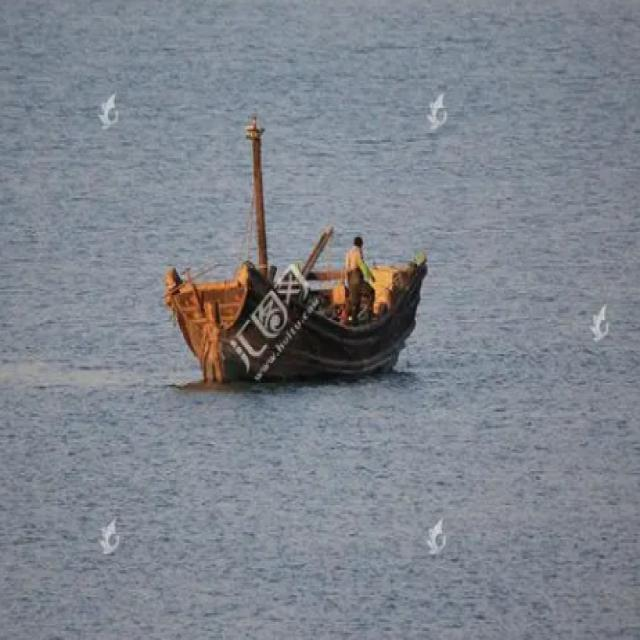fishing boat: (151, 104, 453, 392)
